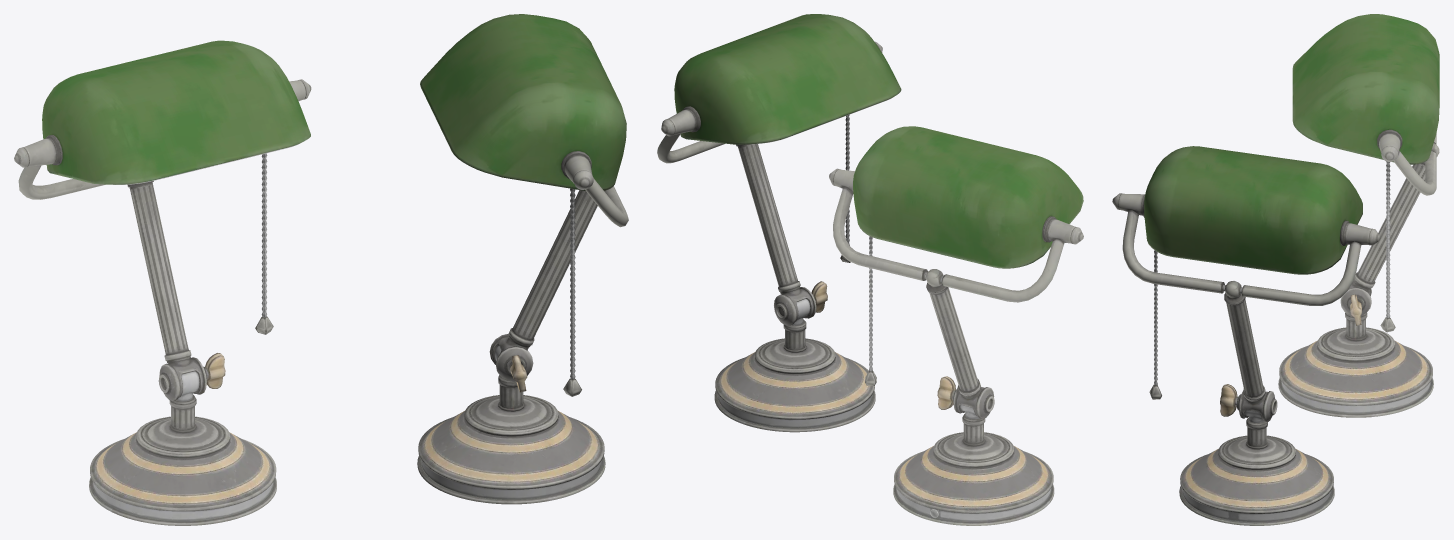
The model's file is lampara.glb.
3 renders of one model, left to right at view 1: azimuth 30°, elevation 25°; view 2: azimuth 150°, elevation 25°; view 3: azimuth 270°, elevation 25°, orthographic. The views are drawn at different scales.
Visible parts, largest first — view 1: joint1_desk_lamp_0, joint1.001_desk_lamp-off_0; view 2: joint1_desk_lamp_0, joint1.001_desk_lamp-off_0; view 3: joint1.001_desk_lamp-off_0, joint1_desk_lamp_0.
Boxes of the visible parts, x1=… form: joint1_desk_lamp_0: x1=14, y1=40, x2=311, y2=525; joint1.001_desk_lamp-off_0: x1=417, y1=14, x2=628, y2=504; joint1_desk_lamp_0: x1=829, y1=126, x2=1083, y2=525; joint1.001_desk_lamp-off_0: x1=657, y1=14, x2=901, y2=432; joint1.001_desk_lamp-off_0: x1=1112, y1=146, x2=1380, y2=525; joint1_desk_lamp_0: x1=1278, y1=14, x2=1439, y2=417.
Bounding box in the file's own units: 0.9843 × 0.7354 × 0.6405.
2 materials, 2 textured.
